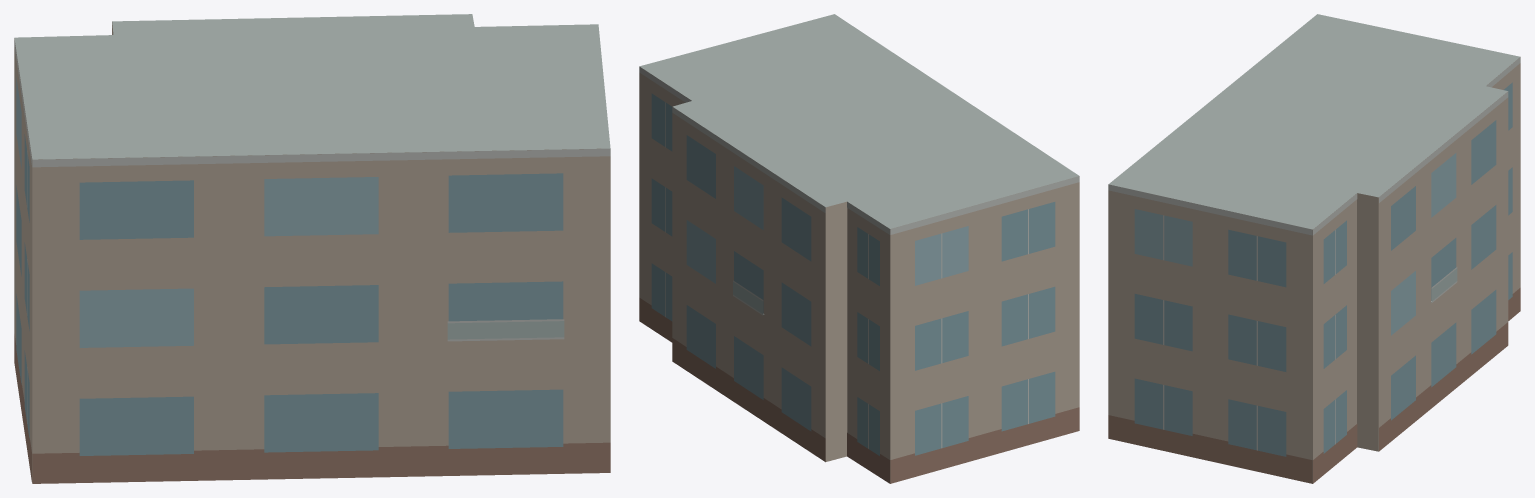
File: survey-upis-32884555.glb
3 renders of one model, left to right at view 1: azimuth 30°, elevation 25°; view 2: azimuth 150°, elevation 25°; view 3: azimuth 270°, elevation 25°, orthographic. The views are drawn at different scales.
Visible parts, largest first — view 1: survey-upis-32884555.tmp; view 2: survey-upis-32884555.tmp; view 3: survey-upis-32884555.tmp.
Part boxes in pixels (left/top/right/bottom): survey-upis-32884555.tmp: left=14, top=14, right=610, bottom=483; survey-upis-32884555.tmp: left=639, top=14, right=1079, bottom=483; survey-upis-32884555.tmp: left=1108, top=14, right=1520, bottom=483.
Size of the model in its own units: 18.55 by 10.2 by 14.99.
